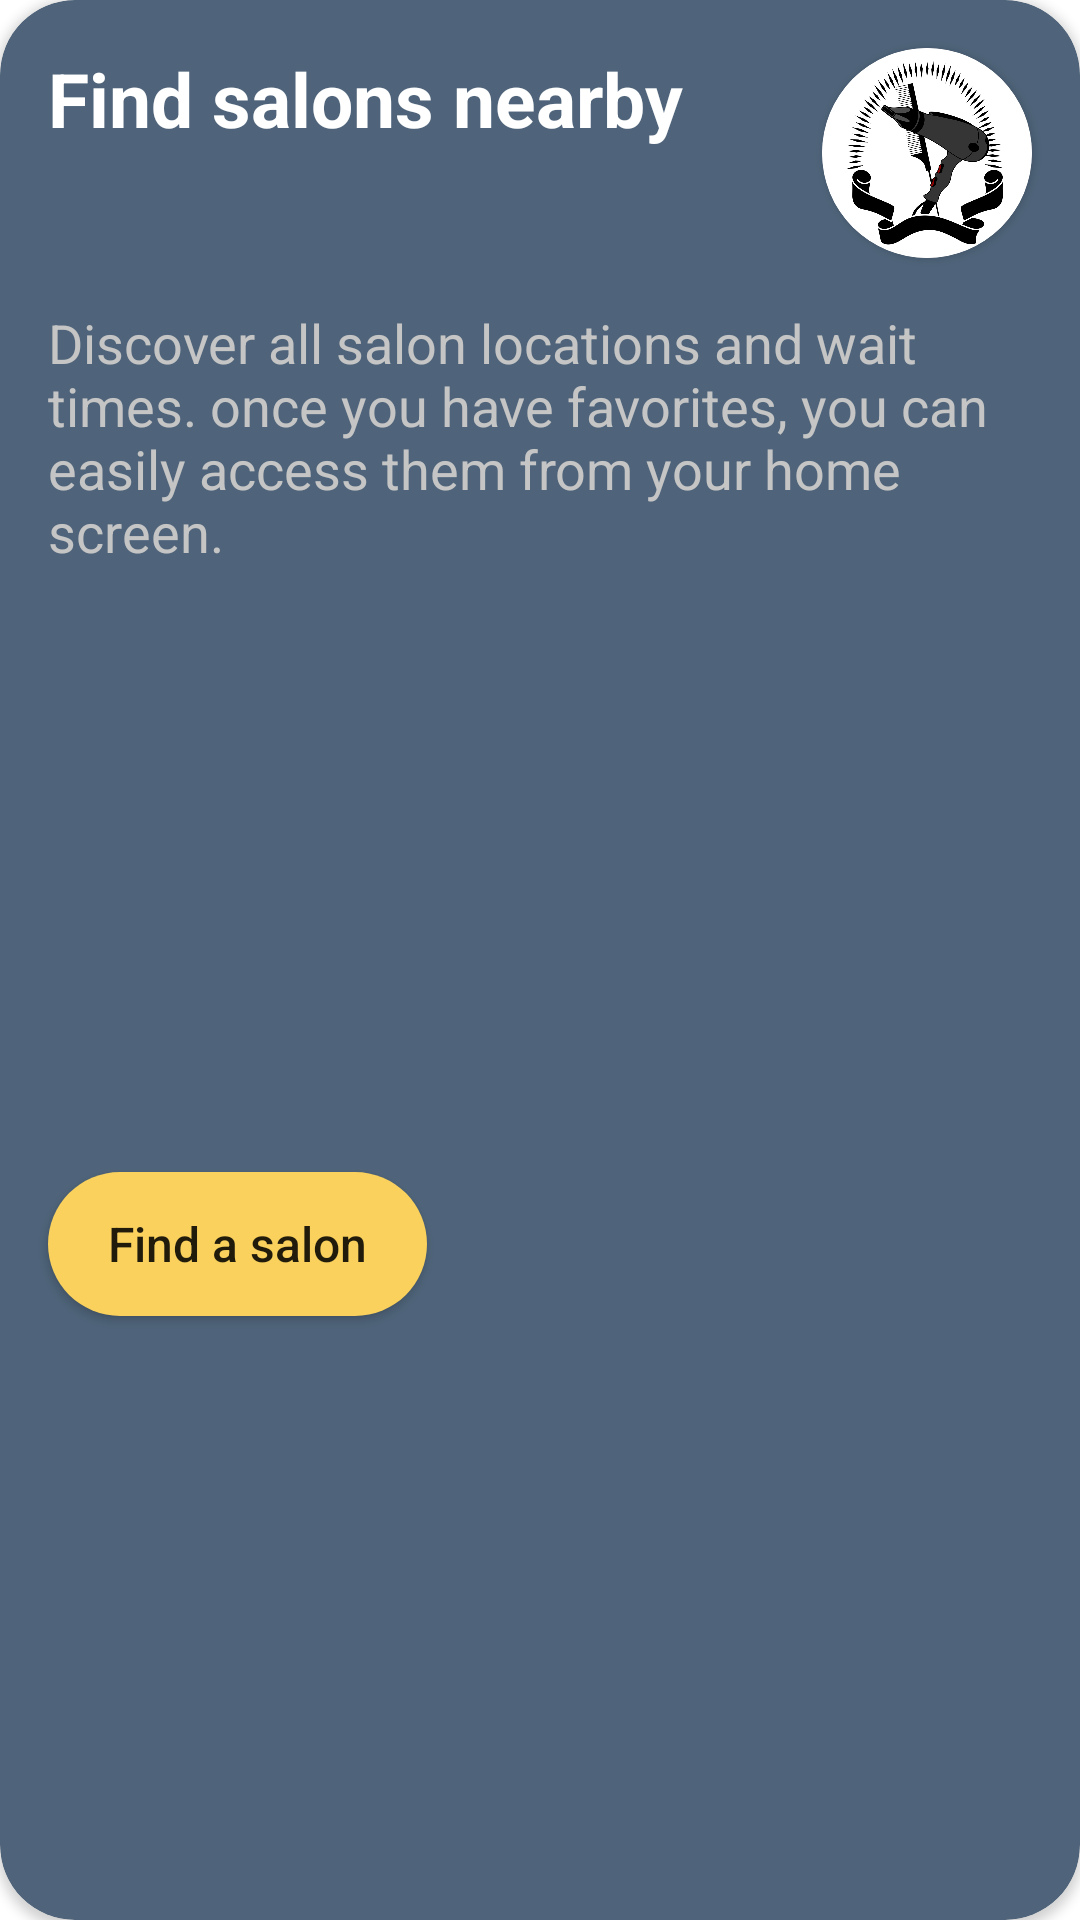

Locate icon controls on the screen. Image size 1080x1920, boxes as (x1, y1, x2, y2).
hair dryer: (822, 48, 1032, 258)
